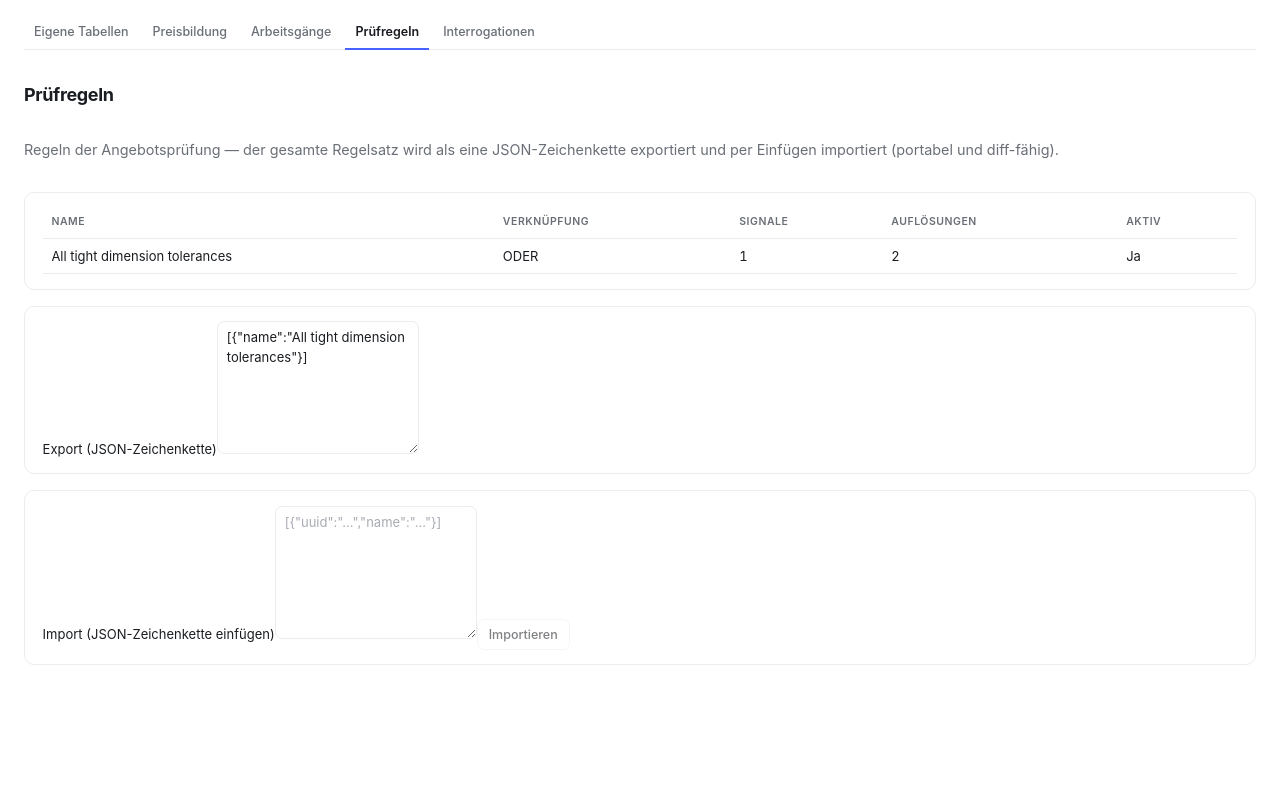
Test: RulesPage › imports a pasted rule set and reports created/updated
Expected: the text "All tight dimension tolerances" is shown, [43,238,494,274]
Click the text box labelled "Import (JSON-Zeichenkette einfügen)" at (376, 572), box [275,506,477,639]
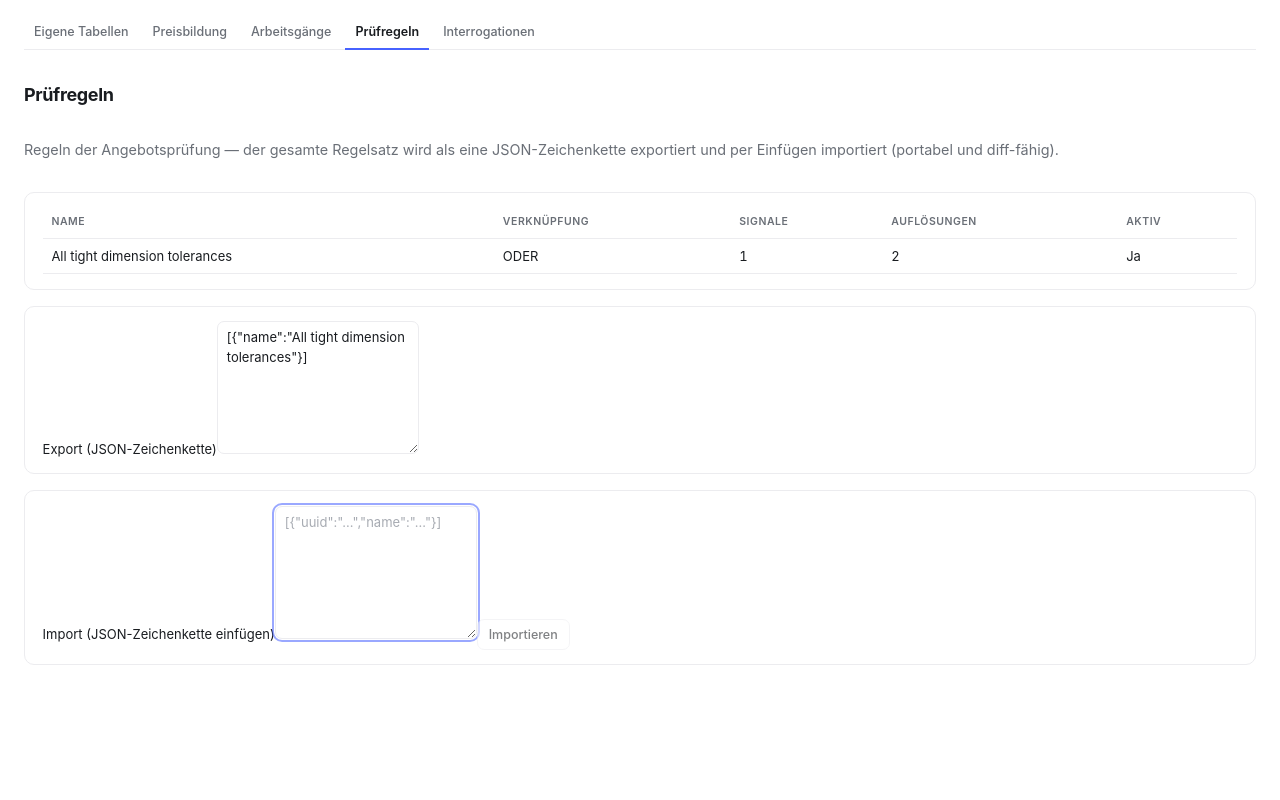
Type keys "[{\"uuid\":\"…\"}]"
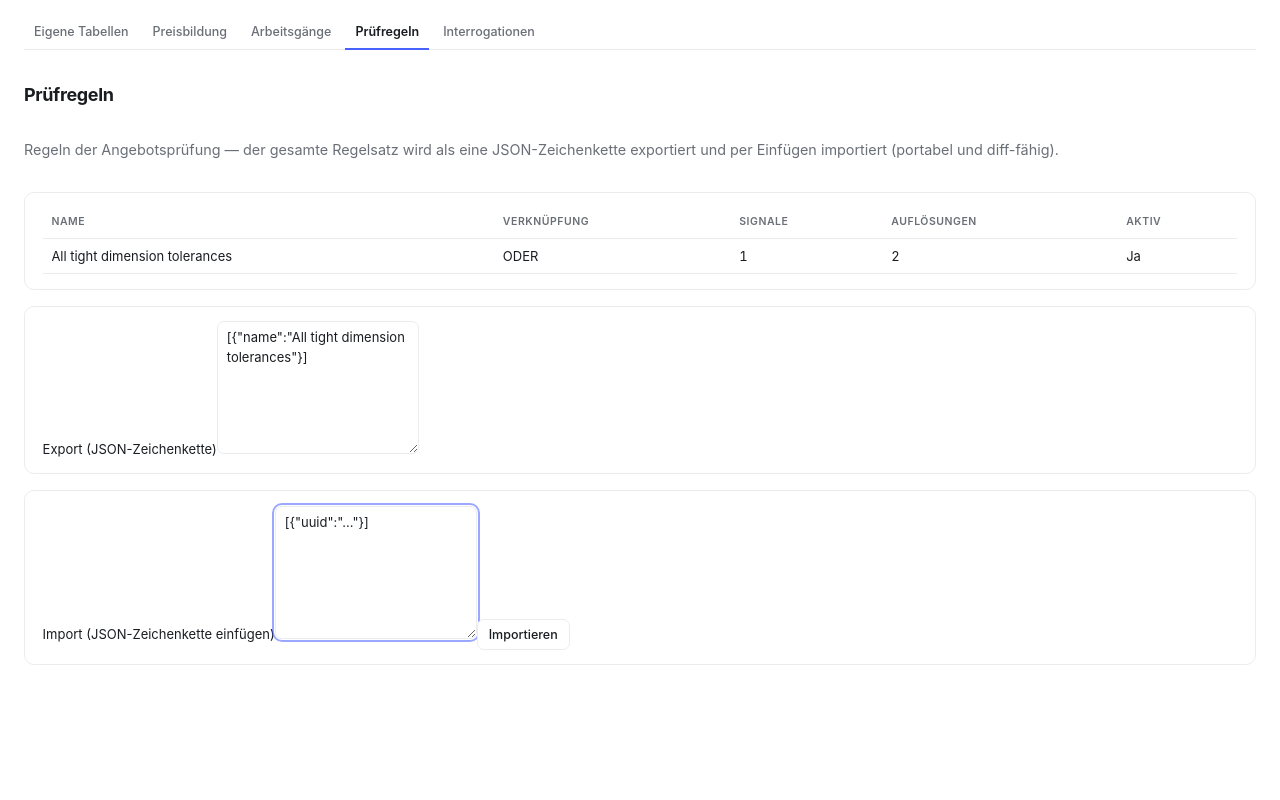
Click the button "Importieren" at (523, 634), box [477,619,570,650]
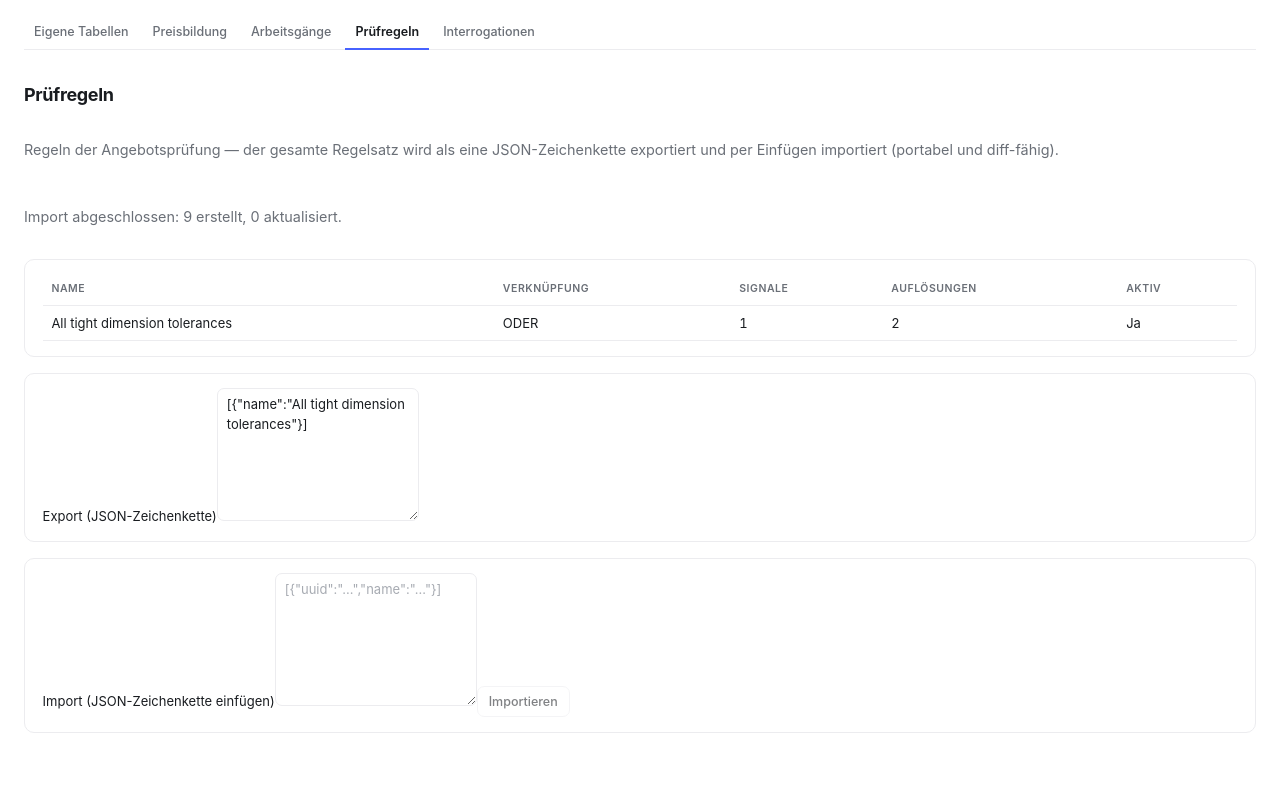
Now the text "Import abgeschlossen: 9 erstellt, 0 aktualisiert." is shown, box [24,208,342,225]
